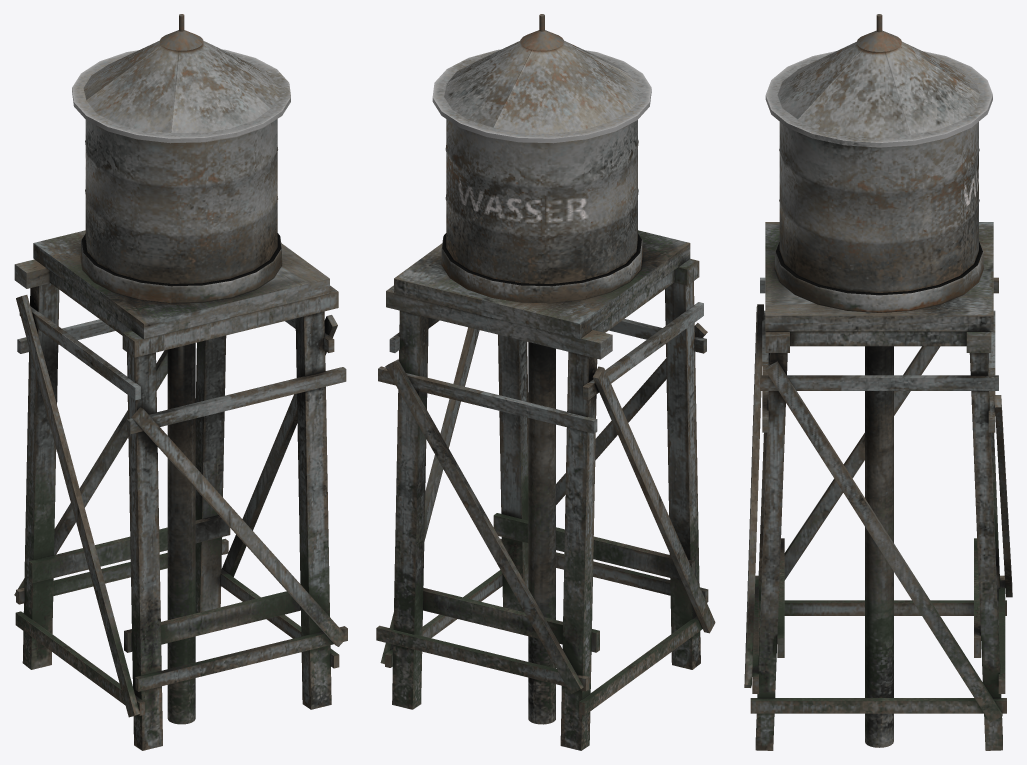
The model's file is water-tower.glb.
The picture shows the model from 3 angles, left to right: view 1: azimuth 30°, elevation 25°; view 2: azimuth 150°, elevation 25°; view 3: azimuth 270°, elevation 25°; orthographic projection. The views are drawn at different scales.
Visible parts, largest first — view 1: Object_2; view 2: Object_2; view 3: Object_2.
Part boxes in pixels (x1,y1,x2,y2): Object_2: [14, 14, 347, 750]; Object_2: [376, 14, 715, 750]; Object_2: [744, 14, 1012, 750].
Size of the model in its own units: 2.2 by 6.7 by 2.24.
Materials: 1 (1 with a texture image).
